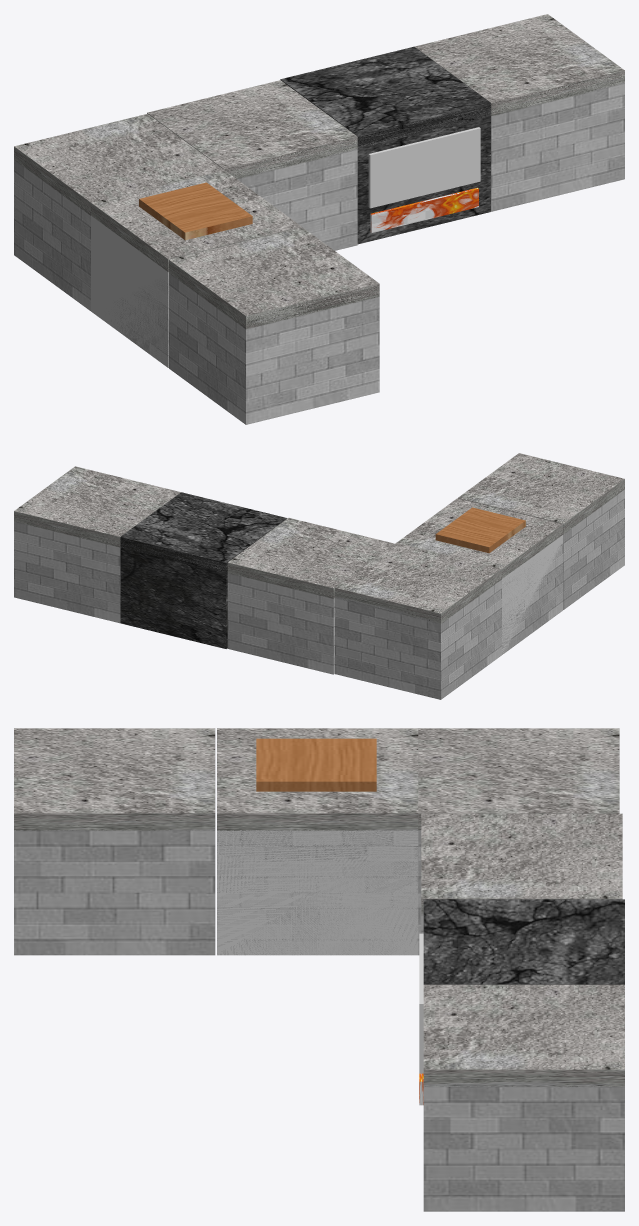
The model's file is cajonesAfuera.fbx.
3 renders of one model, top to bottom at view 1: azimuth 30°, elevation 25°; view 2: azimuth 150°, elevation 25°; view 3: azimuth 270°, elevation 25°, orthographic. The views are drawn at different scales.
Parts seen in each view (by area): view 1: Cube, Cube.001, Cube.030, Cube.025, Cube.031, Cube.019, Cube.013, Cube.028, Cube.007, Cube.012, Cube.018, Cube.026 (+4 smaller); view 2: Cube.012, Cube.024, Cube.018, Cube.030, Cube.013, Cube.025, Cube.019, Cube.031, Cube.001, Cube, Cube.007, Cube.006 (+2 smaller); view 3: Cube, Cube.028, Cube.030, Cube.031, Cube.001, Cube.019, Cube.013, Cube.025, Cube.006, Cube.007, Cube.002, Cube.026.
Boxes of the visible parts, x1=… form: Cube: x1=169, y1=273, x2=379, y2=424; Cube.001: x1=169, y1=227, x2=379, y2=329; Cube.030: x1=491, y1=83, x2=624, y2=211; Cube.025: x1=280, y1=46, x2=490, y2=148; Cube.031: x1=414, y1=14, x2=624, y2=115; Cube.019: x1=147, y1=80, x2=357, y2=178; Cube.013: x1=14, y1=114, x2=224, y2=215; Cube.028: x1=91, y1=216, x2=168, y2=366; Cube.007: x1=91, y1=170, x2=301, y2=272; Cube.012: x1=14, y1=160, x2=90, y2=310; Cube.018: x1=237, y1=150, x2=357, y2=250; Cube.026: x1=368, y1=127, x2=480, y2=208; Cube.012: x1=335, y1=579, x2=501, y2=699; Cube.024: x1=120, y1=547, x2=227, y2=648; Cube.018: x1=227, y1=573, x2=334, y2=674; Cube.030: x1=14, y1=521, x2=120, y2=623; Cube.013: x1=335, y1=543, x2=501, y2=623; Cube.025: x1=120, y1=492, x2=287, y2=572; Cube.019: x1=227, y1=518, x2=394, y2=598; Cube.031: x1=14, y1=466, x2=180, y2=547; Cube.001: x1=458, y1=453, x2=624, y2=533; Cube: x1=563, y1=489, x2=624, y2=609; Cube.007: x1=396, y1=498, x2=563, y2=578; Cube.006: x1=502, y1=538, x2=563, y2=654; Cube: x1=14, y1=830, x2=215, y2=955; Cube.028: x1=217, y1=830, x2=418, y2=955; Cube.030: x1=423, y1=1086, x2=624, y2=1211; Cube.031: x1=423, y1=984, x2=624, y2=1086; Cube.001: x1=14, y1=728, x2=215, y2=830; Cube.019: x1=421, y1=813, x2=622, y2=915; Cube.013: x1=418, y1=728, x2=619, y2=830; Cube.025: x1=423, y1=899, x2=624, y2=984; Cube.006: x1=217, y1=830, x2=418, y2=955; Cube.007: x1=217, y1=728, x2=418, y2=830; Cube.002: x1=256, y1=738, x2=376, y2=791; Cube.026: x1=419, y1=933, x2=423, y2=1073.
Bounding box in the file's own units: 1745 × 362 × 1320.
6 materials, 5 textured.
